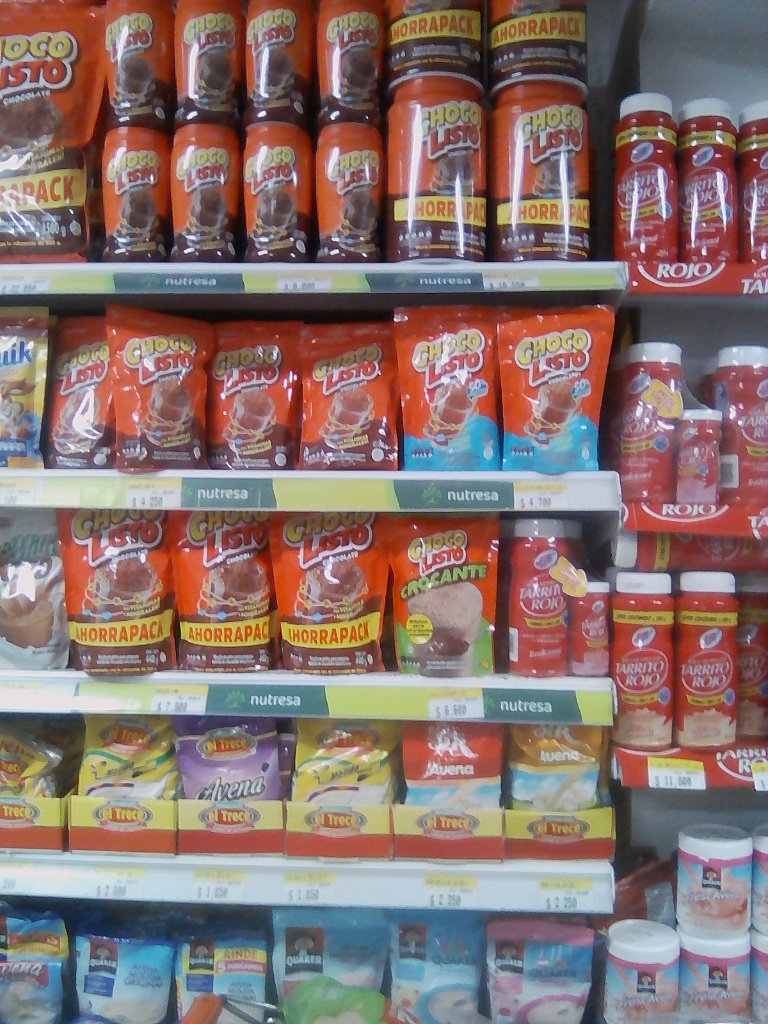COL0170103DYP44000: (56, 511, 171, 674)
COL0170103TRR00100: (397, 59, 496, 262)
COL0170104DYP20000: (405, 301, 503, 469)
